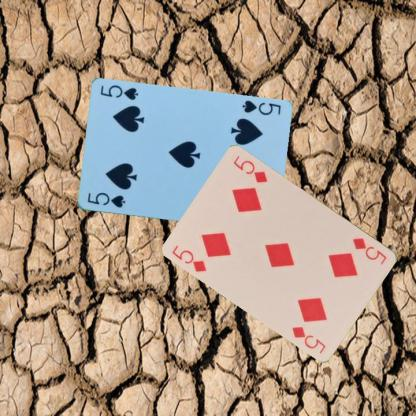5d: (169, 242, 208, 273), (350, 235, 388, 266)
5s: (84, 190, 126, 209), (240, 97, 282, 116)
